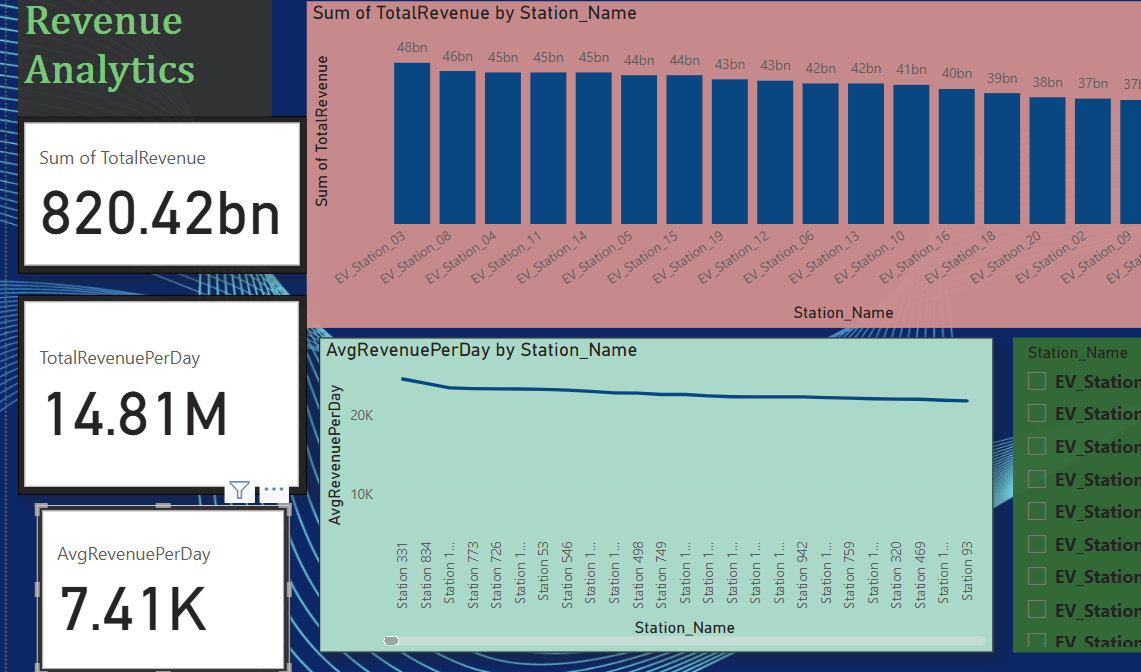

Layout of this report page (visuals, bound fields, positions):
{"tool":"powerbi","page":{"name":"Revenue Analytics","canvas":[1280,720],"ordinal":2},"visuals":[{"type":"cardVisual","fields":{"Data":["Sum(team 2 final (updated vals).TotalRevenue)"]},"box":[9.9,130.7,257,139.7],"z":0},{"type":"cardVisual","fields":{"Data":["updated_cleaned_output.TotalRevenuePerDay"]},"box":[10,290,256.7,177.8],"z":1000},{"type":"cardVisual","fields":{"Data":["updated_cleaned_output.AvgRevenuePerDay"]},"box":[26.7,476.7,225.6,151.1],"z":2000},{"type":"clusteredColumnChart","fields":{"Y":["Sum(team 2 final (updated vals).TotalRevenue)"],"Category":["team 2 final (updated vals).Station_Name"]},"box":[266.7,28.9,897.8,290],"z":3000},{"type":"lineChart","fields":{"Category":["updated_cleaned_output.Station_Name"],"Y":["updated_cleaned_output.AvgRevenuePerDay"]},"box":[277.8,327.8,598.9,280],"z":4000},{"type":"textbox","box":[10,21.1,225.6,110],"z":5000},{"type":"slicer","fields":{"Values":["team 2 final (updated vals).Station_Name"]},"box":[894.4,327.8,293.3,280],"z":6000}]}

Visuals, with their boxes on the page's 1280x720 design canvas (x1, y1, x2, y2). These are canvas units, not pixel positions in the 1141x672 screenshot, which may show the page scaled, cropped or inside an application window:
cardVisual - Sum(team 2 final (updated vals).TotalRevenue): bbox=(10, 131, 267, 270)
cardVisual - updated_cleaned_output.TotalRevenuePerDay: bbox=(10, 290, 267, 468)
cardVisual - updated_cleaned_output.AvgRevenuePerDay: bbox=(27, 477, 252, 628)
clusteredColumnChart - Sum(team 2 final (updated vals).TotalRevenue) x team 2 final (updated vals).Station_Name: bbox=(267, 29, 1164, 319)
lineChart - updated_cleaned_output.Station_Name x updated_cleaned_output.AvgRevenuePerDay: bbox=(278, 328, 877, 608)
textbox: bbox=(10, 21, 236, 131)
slicer - team 2 final (updated vals).Station_Name: bbox=(894, 328, 1188, 608)
